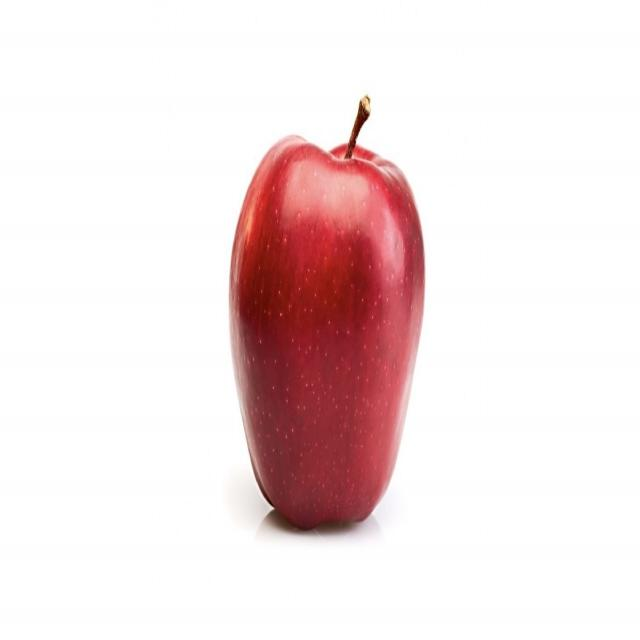Apple: (225, 84, 438, 536)
